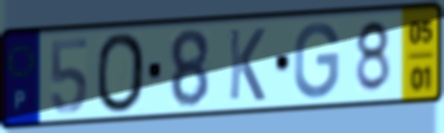5: (48, 35, 89, 116)
8: (167, 27, 212, 110), (353, 18, 393, 96)
G: (291, 19, 342, 101)
K: (227, 26, 268, 103)
O: (94, 30, 148, 116)
